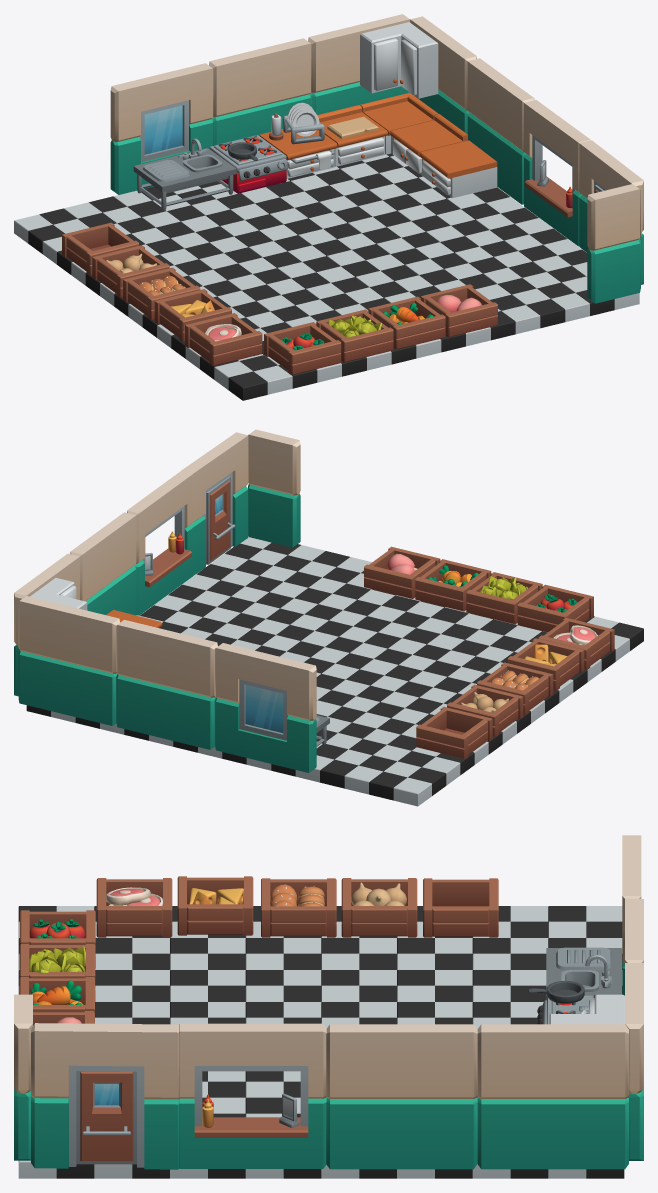
File: map_basic_ex.glb
3 renders of one model, top to bottom at view 1: azimuth 30°, elevation 25°; view 2: azimuth 150°, elevation 25°; view 3: azimuth 270°, elevation 25°, orthographic. The views are drawn at different scales.
Visible parts, largest first — view 1: floor_kitchen_small.001; view 2: floor_kitchen_small.001; view 3: floor_kitchen_small.001.
Boxes of the visible parts, <box> form: floor_kitchen_small.001: <box>14,14,643,400</box>; floor_kitchen_small.001: <box>14,429,643,806</box>; floor_kitchen_small.001: <box>14,835,643,1178</box>.
Bounding box in the file's own units: 16.7 × 4.51 × 16.65.
26 materials, 26 textured.
